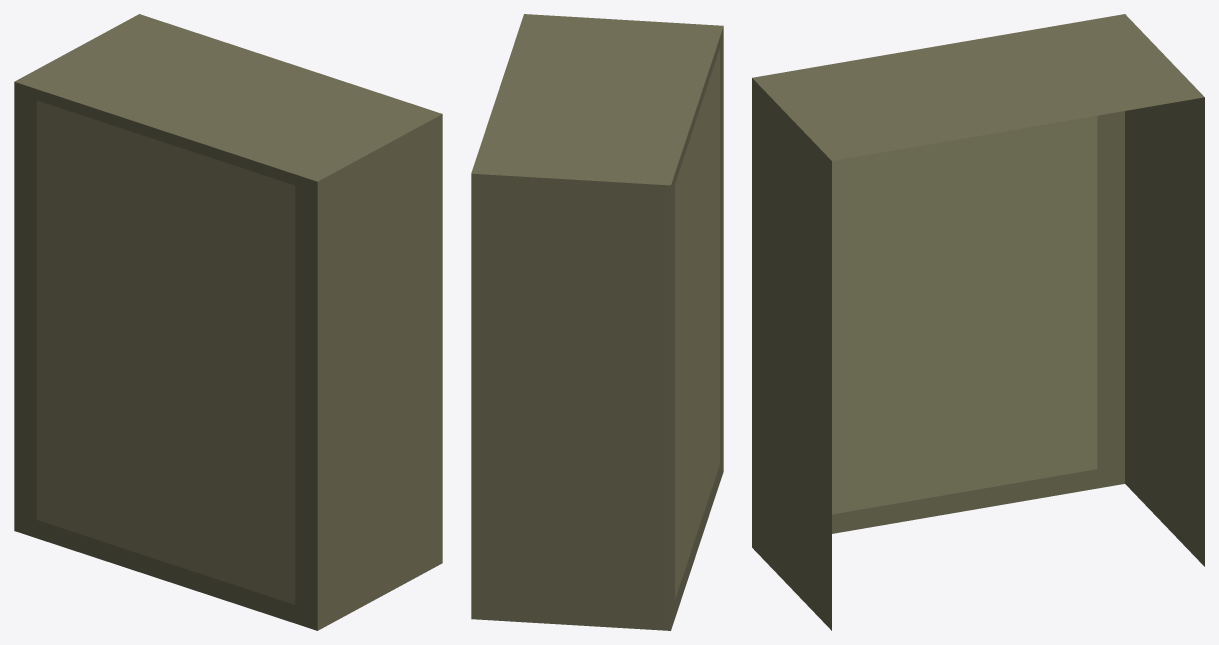
The model's file is MSH_QuestObject_locker_04.fbx.
The picture shows the model from 3 angles, left to right: view 1: azimuth 30°, elevation 25°; view 2: azimuth 150°, elevation 25°; view 3: azimuth 270°, elevation 25°; orthographic projection. The views are drawn at different scales.
Visible parts, largest first — view 1: MSH_QuestObject_locker_04; view 2: MSH_QuestObject_locker_04; view 3: MSH_QuestObject_locker_04.
Part boxes in pixels (x1,y1,x2,y2): MSH_QuestObject_locker_04: [14, 14, 442, 630]; MSH_QuestObject_locker_04: [471, 14, 723, 630]; MSH_QuestObject_locker_04: [752, 14, 1204, 630].
Size of the model in its own units: 1.36 by 2.03 by 1.77.
